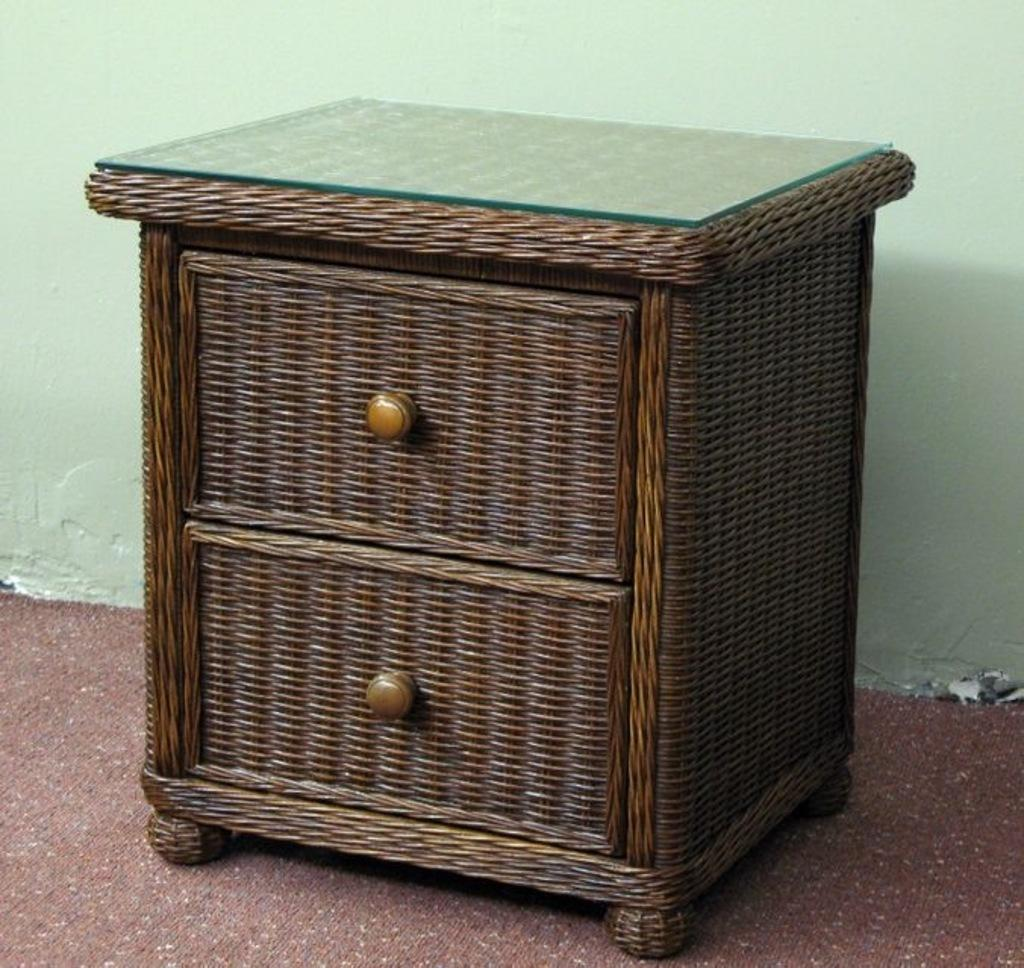cabinet_door: (189, 523, 637, 864), (191, 265, 631, 569)
handle: (356, 658, 436, 742), (360, 388, 428, 452)
